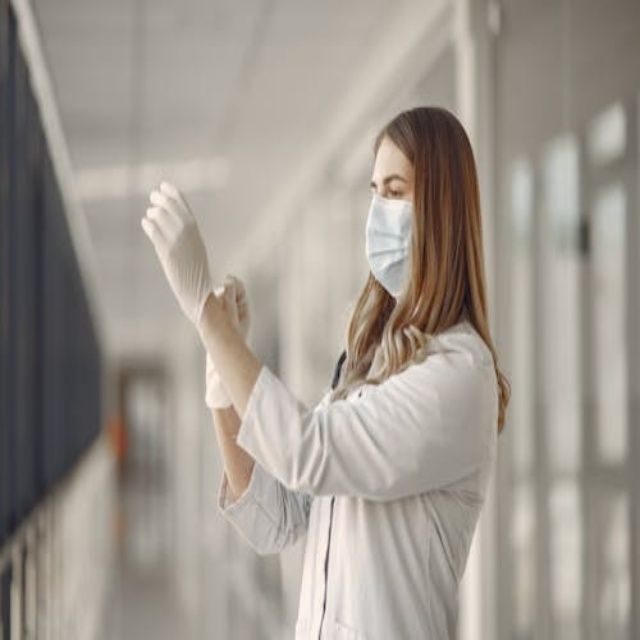Guantes: (142, 179, 222, 328), (201, 278, 254, 411)
Mascara: (364, 192, 417, 298)
Sin_gafas: (364, 165, 412, 202)
